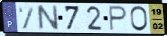2: (85, 5, 104, 32)
7: (64, 5, 81, 32), (18, 4, 35, 30)
N: (36, 4, 61, 32)
O: (129, 5, 149, 33)
P: (109, 5, 129, 32)
